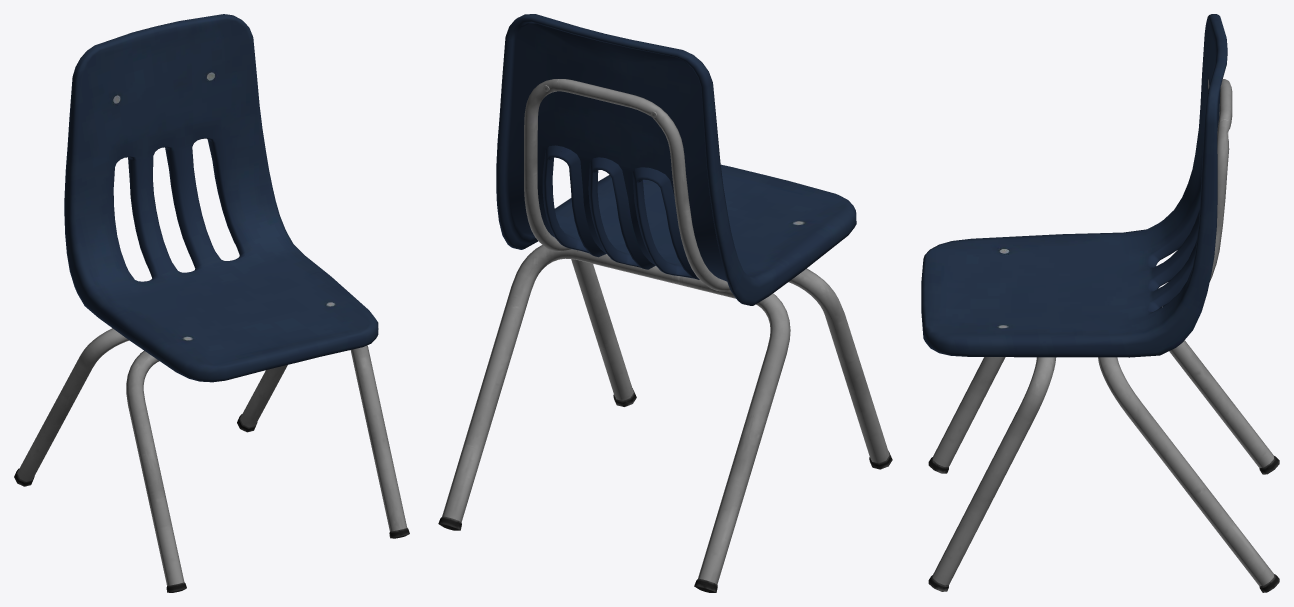
The model's file is SchoolChair_01.glb.
3 renders of one model, left to right at view 1: azimuth 30°, elevation 25°; view 2: azimuth 150°, elevation 25°; view 3: azimuth 270°, elevation 25°, orthographic. The views are drawn at different scales.
Parts seen in each view (by area): view 1: SchoolChair_01; view 2: SchoolChair_01; view 3: SchoolChair_01.
Boxes of the visible parts, box(x1,y1,x2,y2) form: SchoolChair_01: box(14, 14, 409, 592); SchoolChair_01: box(438, 14, 892, 592); SchoolChair_01: box(921, 14, 1279, 592).
Bounding box in the file's own units: 0.5659 × 1.01 × 0.6753.
1 material, 1 textured.
